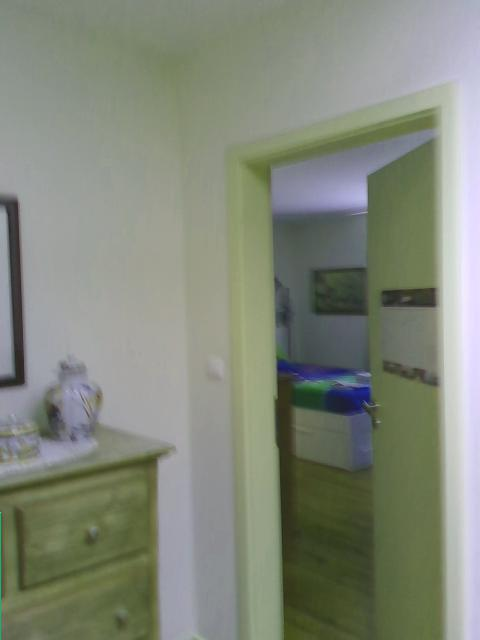semi_door: (223, 76, 467, 639)
